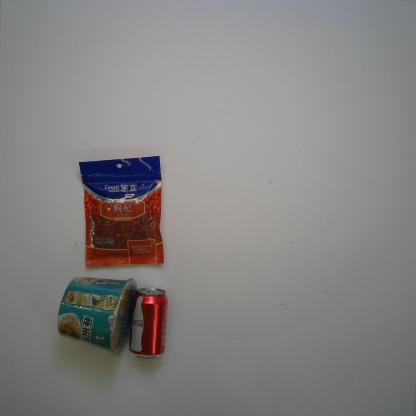Dried Fruit: (77, 156, 165, 268)
Drink: (128, 287, 168, 360)
Instant Noodles: (57, 276, 138, 358)
